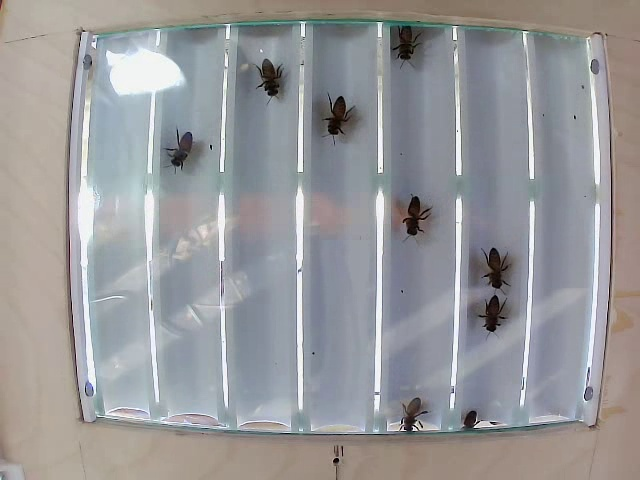bee: (392, 187, 437, 237), (254, 53, 298, 102), (394, 381, 431, 434), (170, 136, 208, 187), (327, 90, 358, 152), (475, 241, 509, 293), (391, 23, 425, 75), (476, 293, 508, 347)
